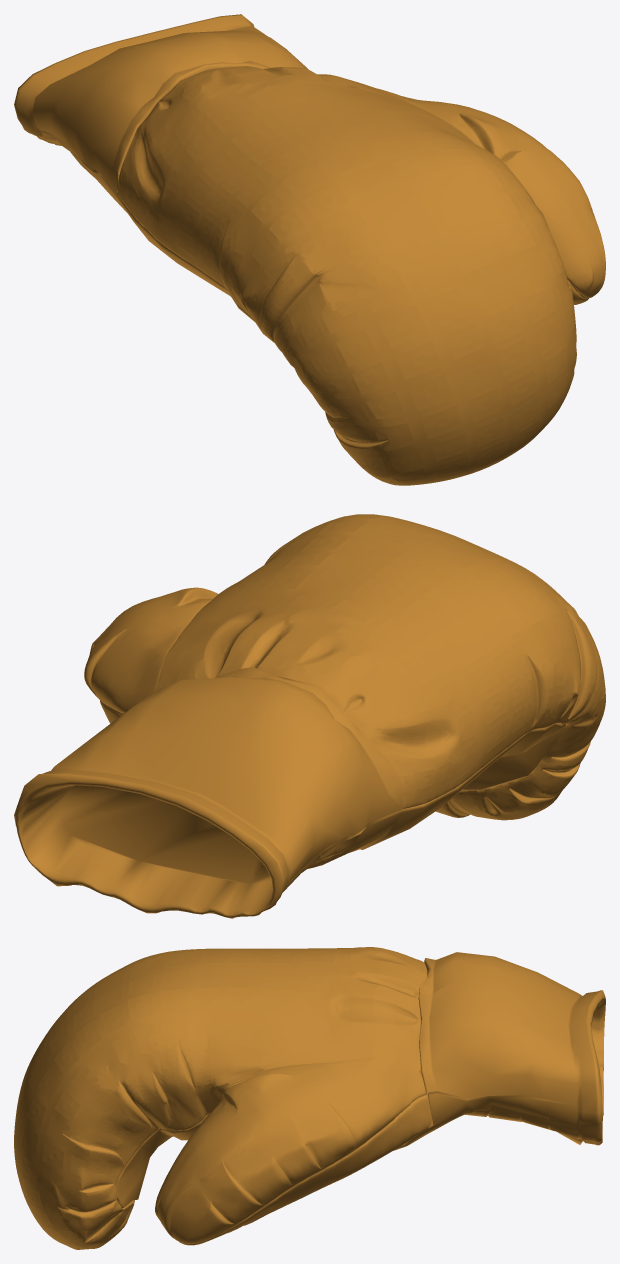
The model's file is boxingGlove.fbx.
The picture shows the model from 3 angles, top to bottom: view 1: azimuth 30°, elevation 25°; view 2: azimuth 150°, elevation 25°; view 3: azimuth 270°, elevation 25°; orthographic projection. The views are drawn at different scales.
Parts seen in each view (by area): view 1: boxingGlove; view 2: boxingGlove; view 3: boxingGlove.
Boxes of the visible parts, bbox=[...] form: boxingGlove: bbox=[14, 14, 605, 485]; boxingGlove: bbox=[14, 514, 605, 918]; boxingGlove: bbox=[14, 947, 605, 1249].
Bounding box in the file's own units: 14.44 × 10.48 × 21.76.
